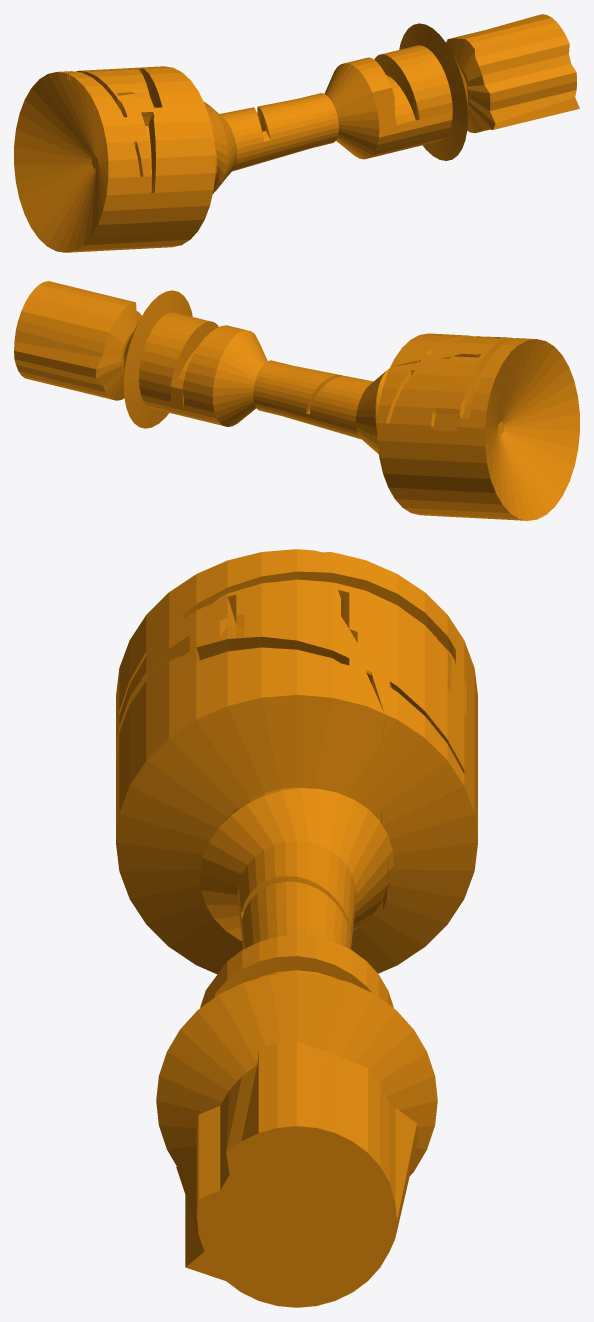
File: Boss_Past.fbx
3 renders of one model, top to bottom at view 1: azimuth 30°, elevation 25°; view 2: azimuth 150°, elevation 25°; view 3: azimuth 270°, elevation 25°, orthographic. The views are drawn at different scales.
Visible parts, largest first — view 1: Boss_Present; view 2: Boss_Present; view 3: Boss_Present.
Boxes of the visible parts, x1,y1,x2,y2 form: Boss_Present: (14,14,579,252); Boss_Present: (14,281,579,520); Boss_Present: (116,549,477,1307).
Bounding box in the file's own units: 362 × 1164 × 401.
